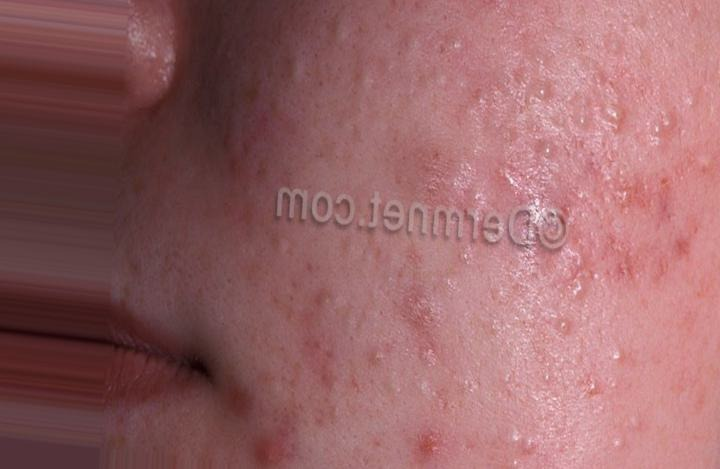Acne: (207, 3, 689, 467)
